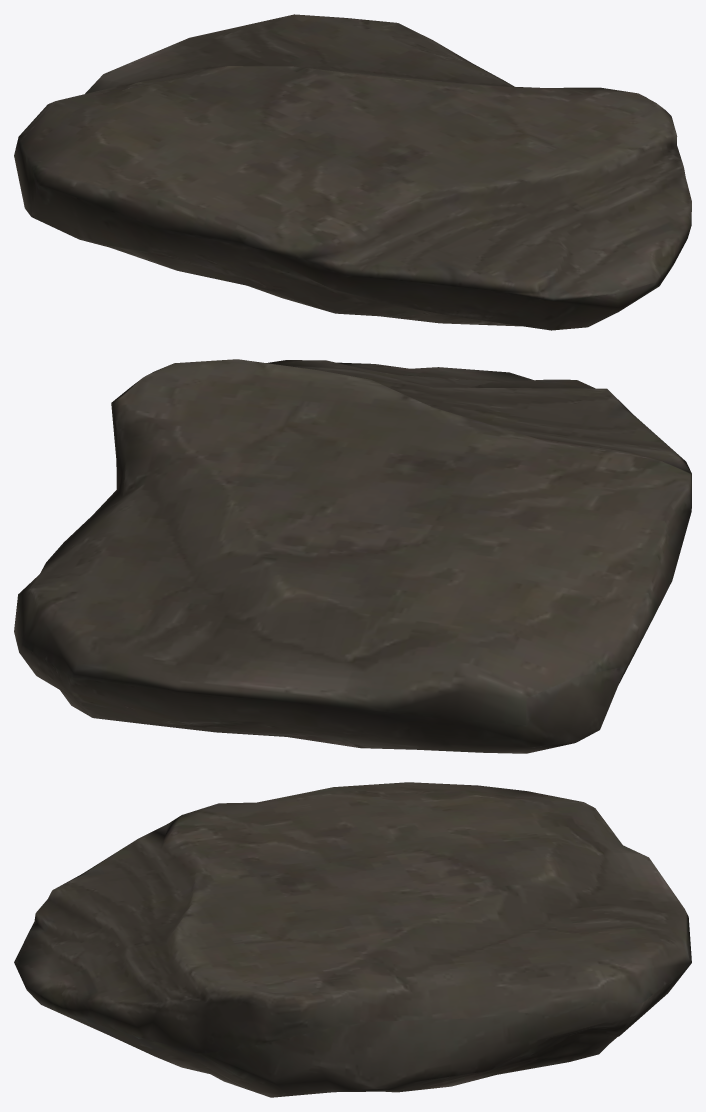
3 renders of one model, top to bottom at view 1: azimuth 30°, elevation 25°; view 2: azimuth 150°, elevation 25°; view 3: azimuth 270°, elevation 25°, orthographic. The views are drawn at different scales.
Bounding box in the file's own units: 6.68 × 1.61 × 7.88.
Materials: 1 (1 with a texture image).
